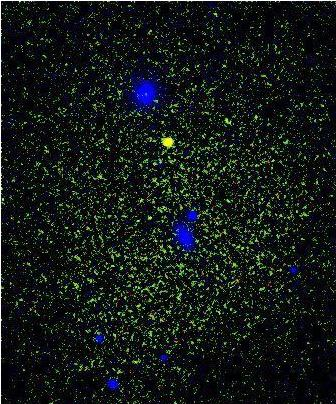star: (152, 127, 182, 157)
